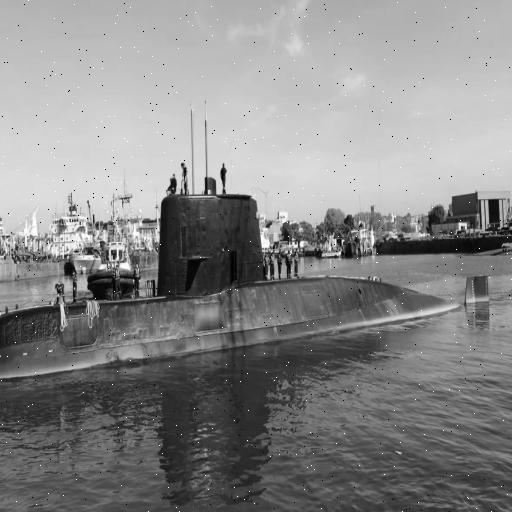submarine: (1, 95, 500, 397)
